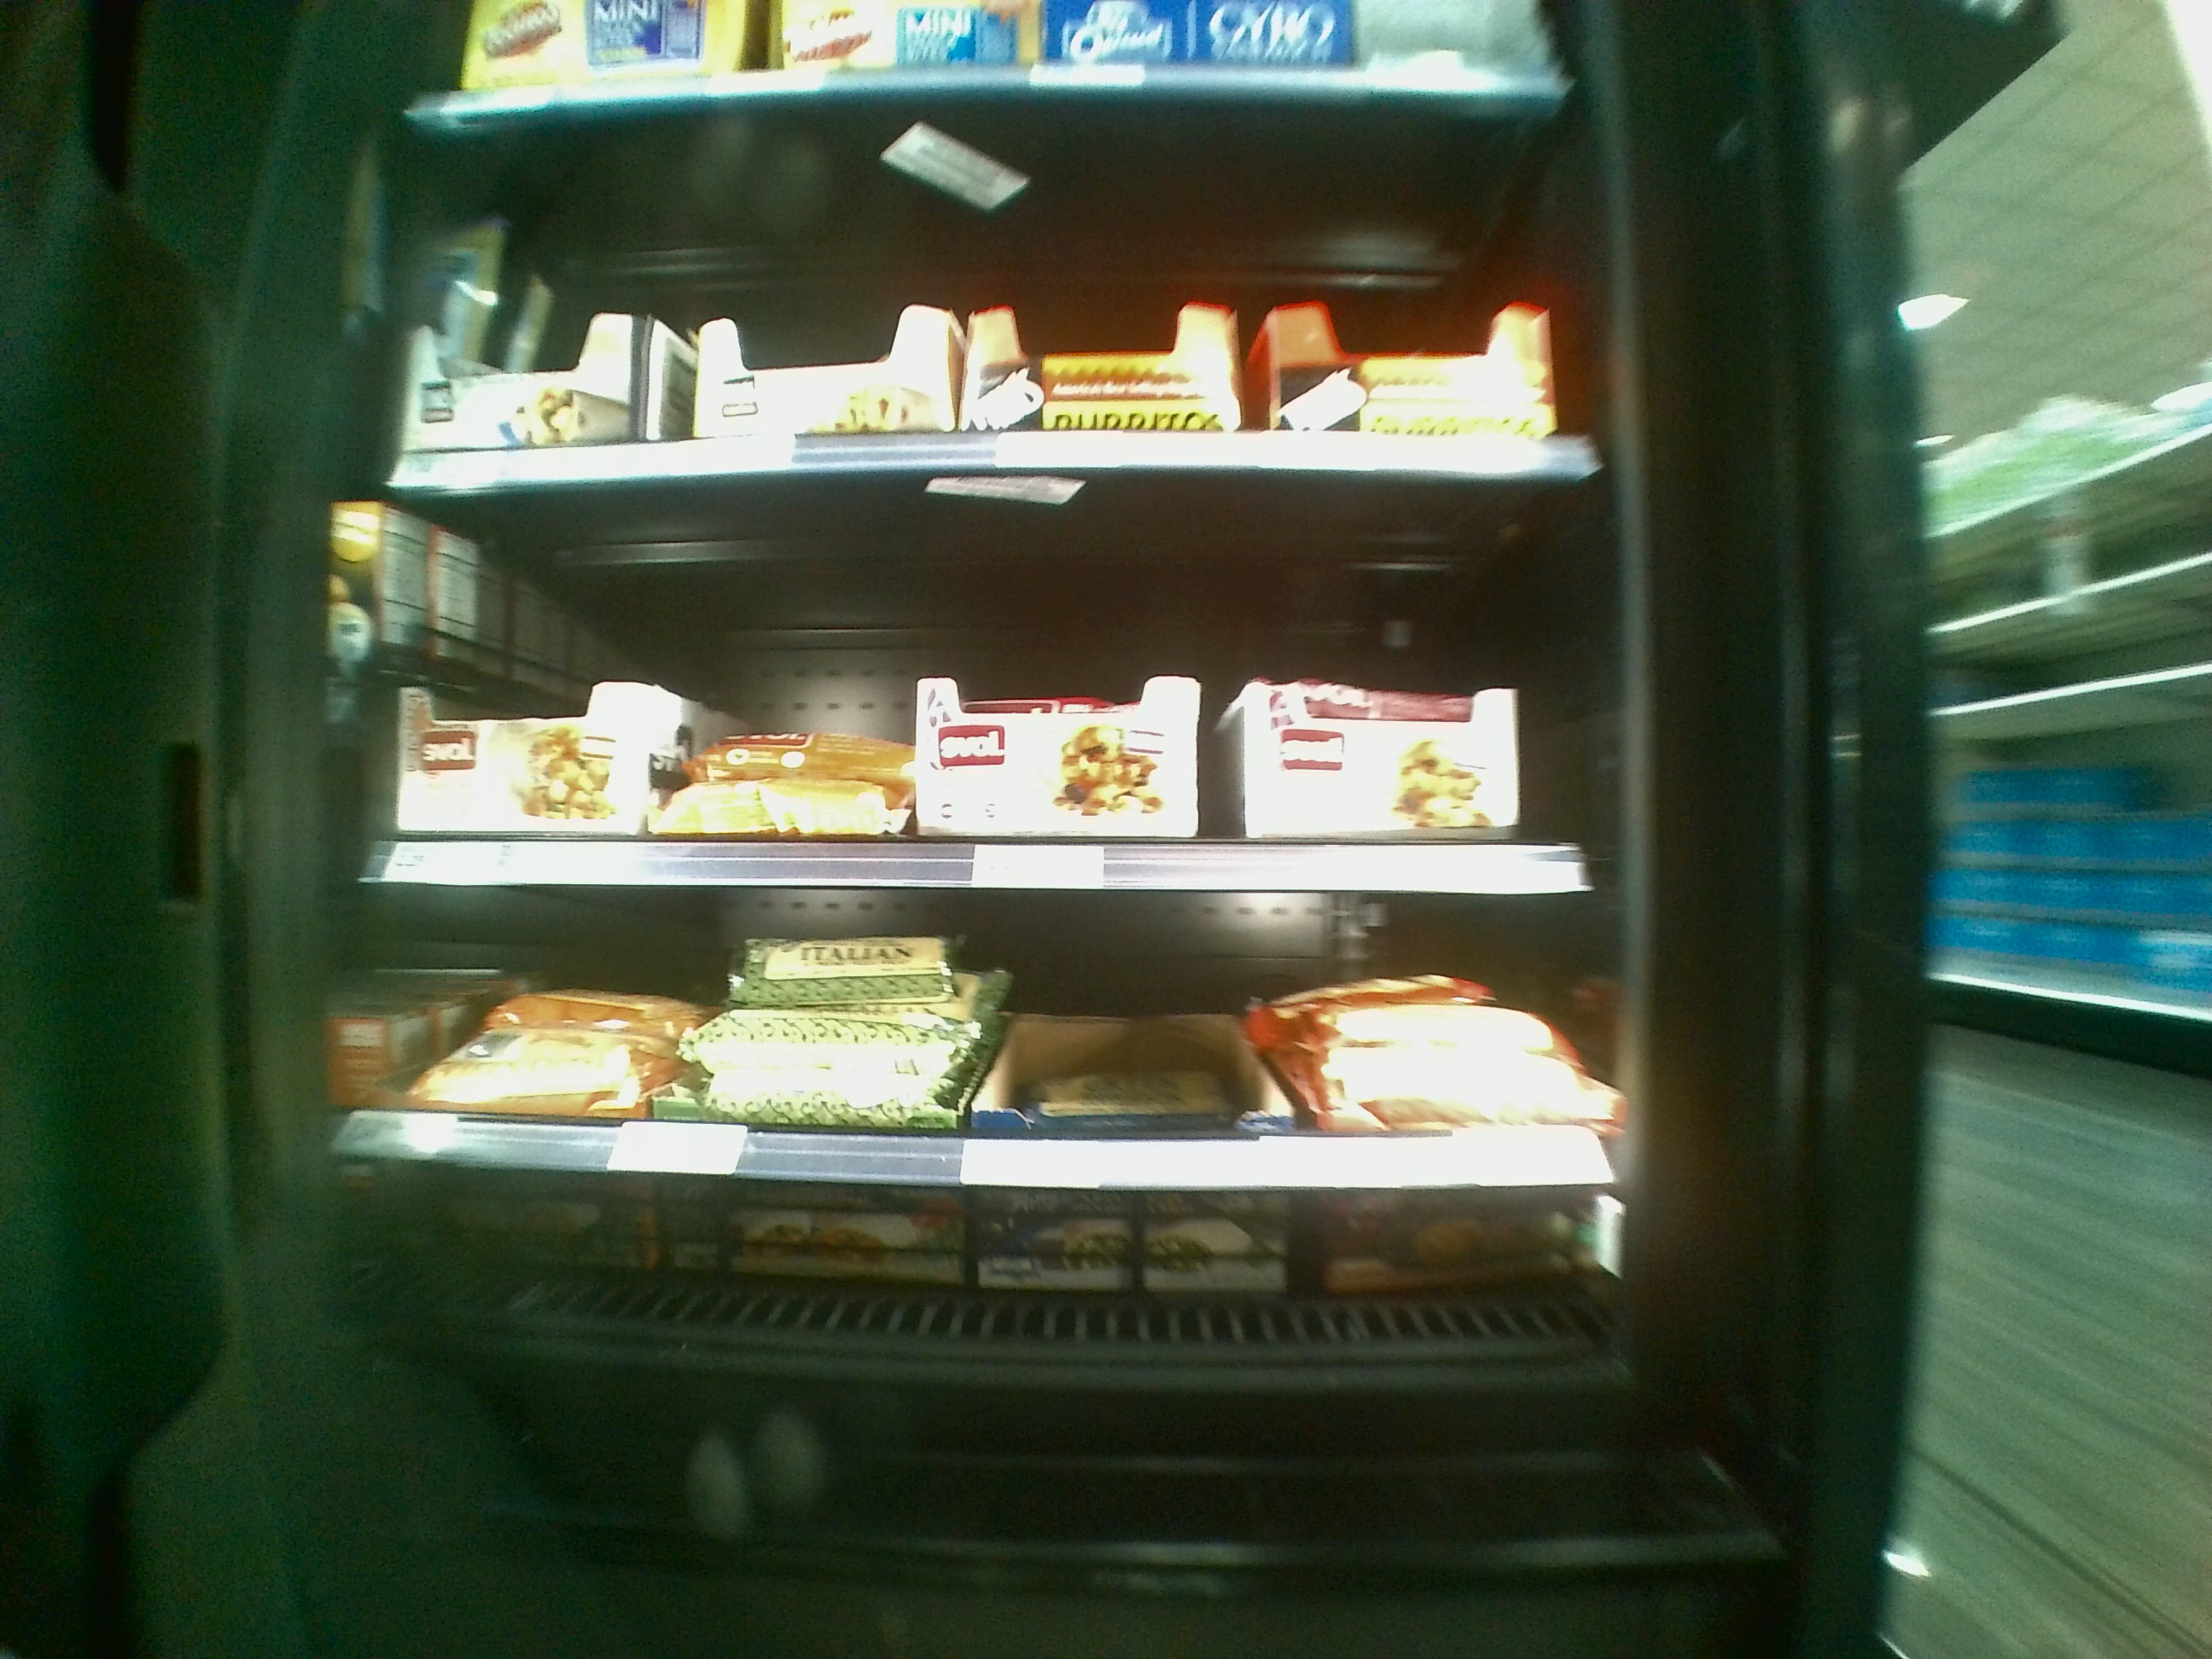shelf: (348, 871, 1627, 1335), (357, 476, 1615, 880), (397, 117, 1616, 469)
